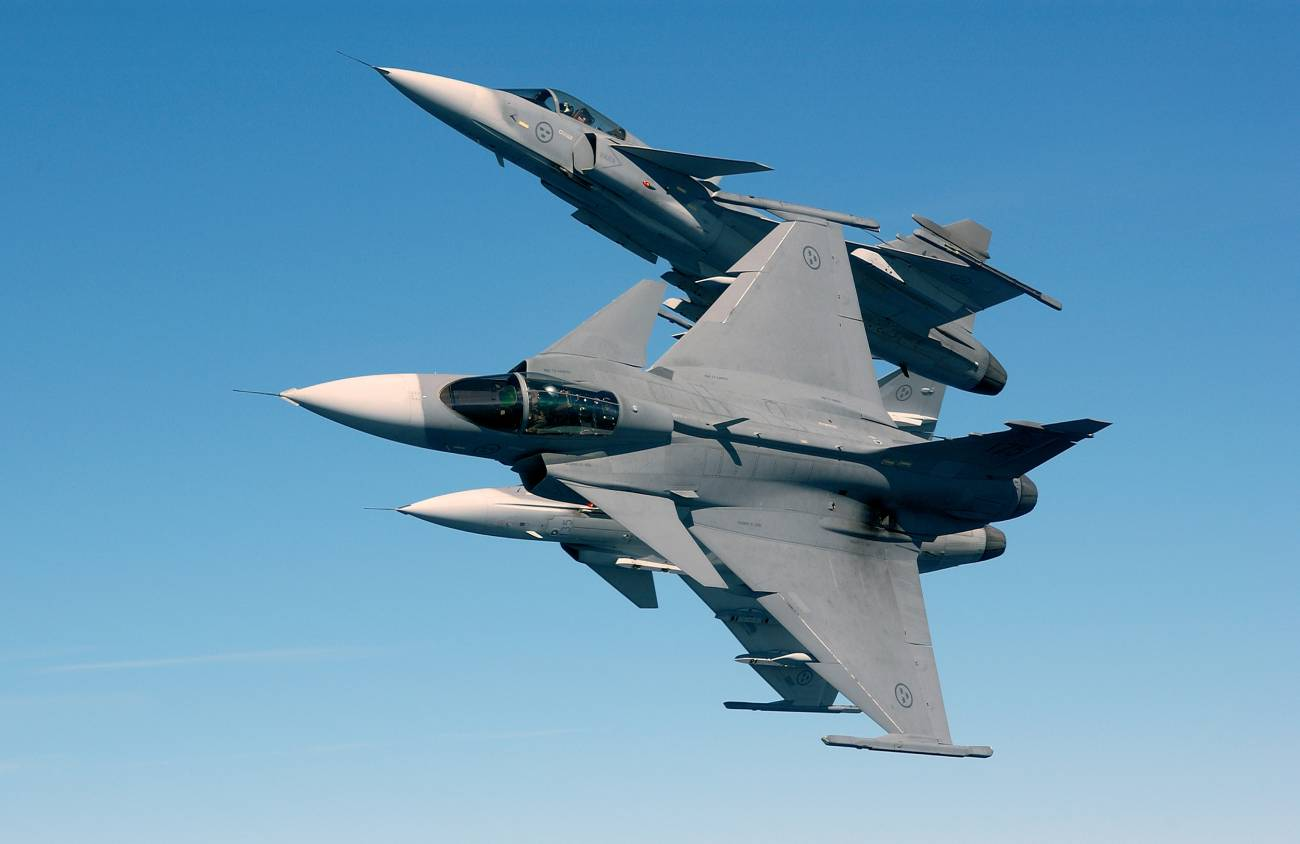JAS39: (232, 190, 1114, 759), (335, 49, 1063, 397), (362, 368, 1007, 714)
